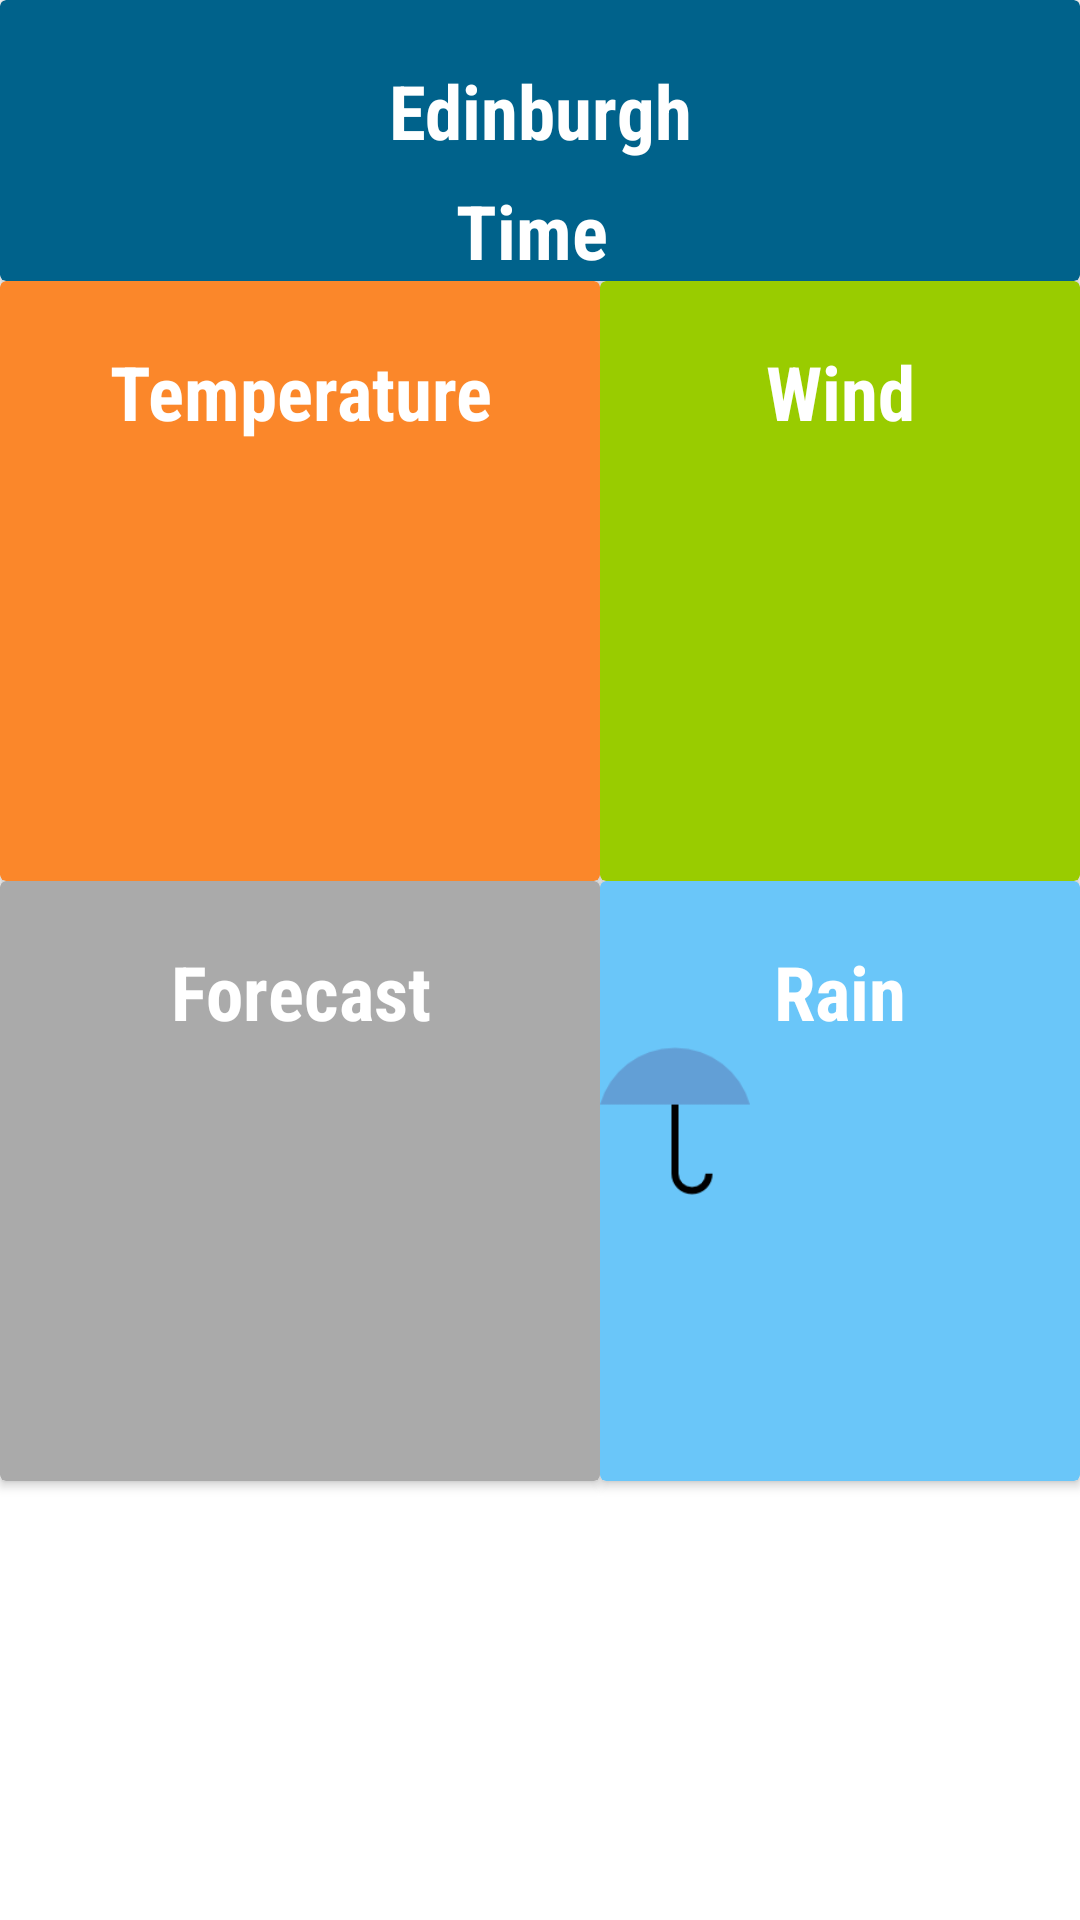

Locate icon controls on the screen. Image size 1080px x 1920px, boxes as (x1, y1, x2, y2).
umberlla: (600, 1048, 750, 1195)
